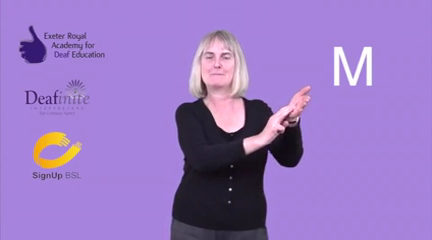M: (262, 82, 312, 145)
